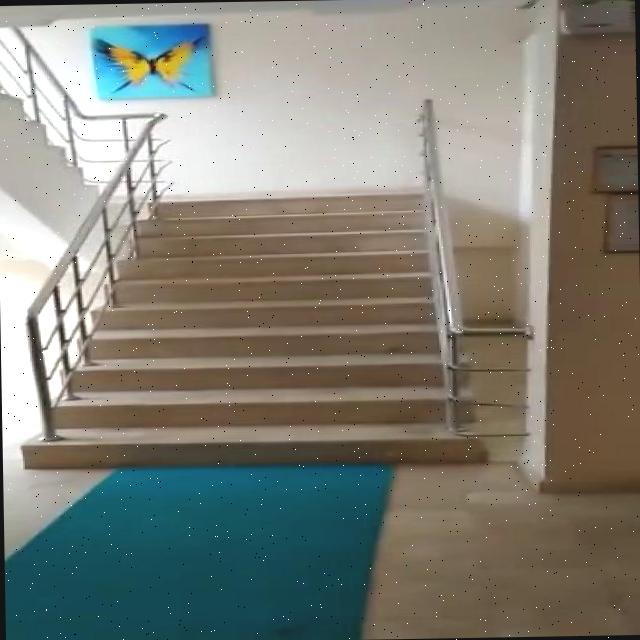stairs: (19, 188, 501, 469)
